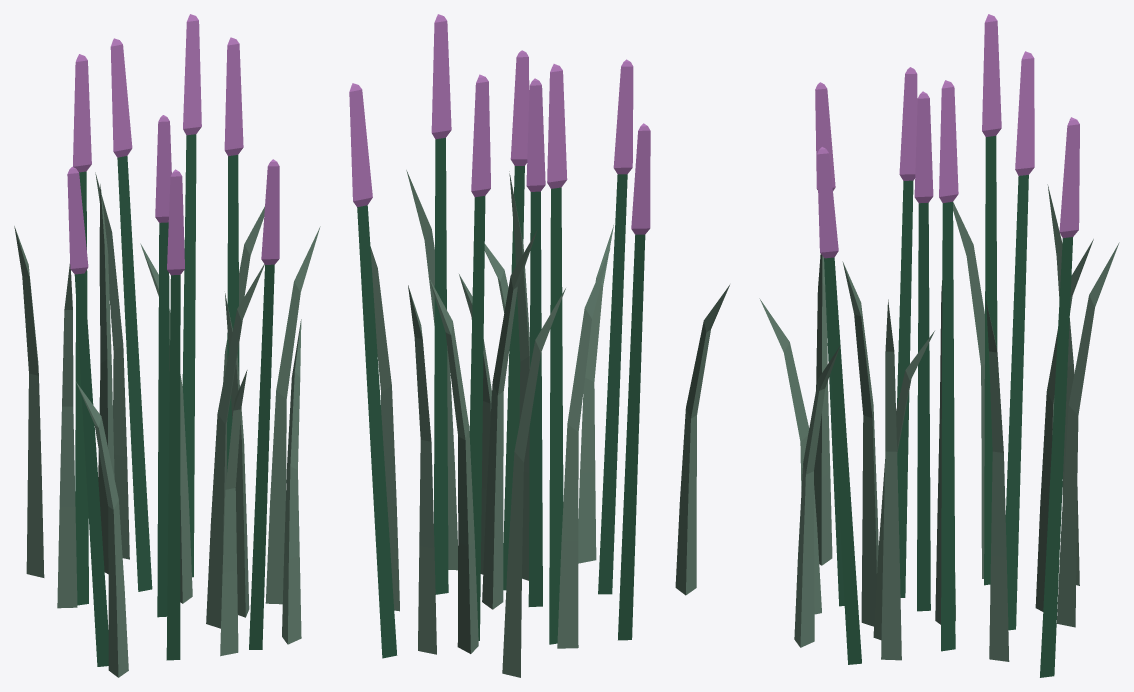
File: Sage.fbx
The picture shows the model from 3 angles, left to right: view 1: azimuth 30°, elevation 25°; view 2: azimuth 150°, elevation 25°; view 3: azimuth 270°, elevation 25°; orthographic projection. The views are drawn at different scales.
Visible parts, largest first — view 1: Sage; view 2: Sage; view 3: Sage.
Part boxes in pixels (<box>): Sage: <box>14,14,320,677</box>; Sage: <box>349,14,729,677</box>; Sage: <box>759,14,1119,677</box>.
Size of the model in its own units: 1.01 by 0.9255 by 1.83.
